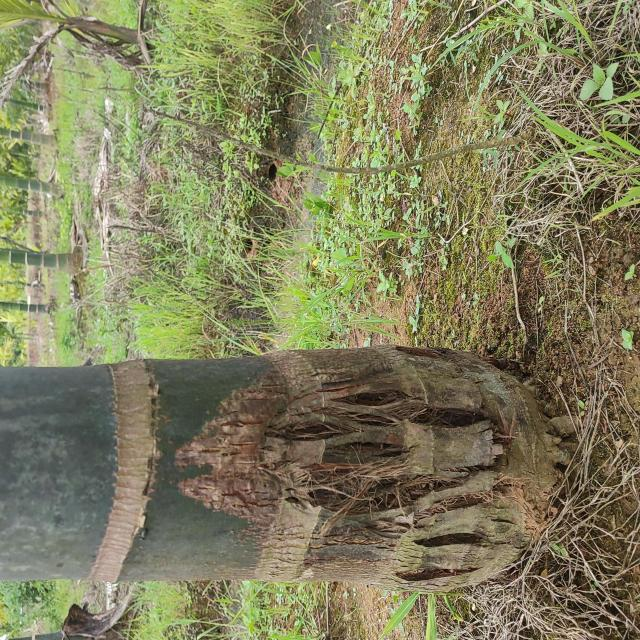Stem_Cracking: (105, 174, 576, 594)
